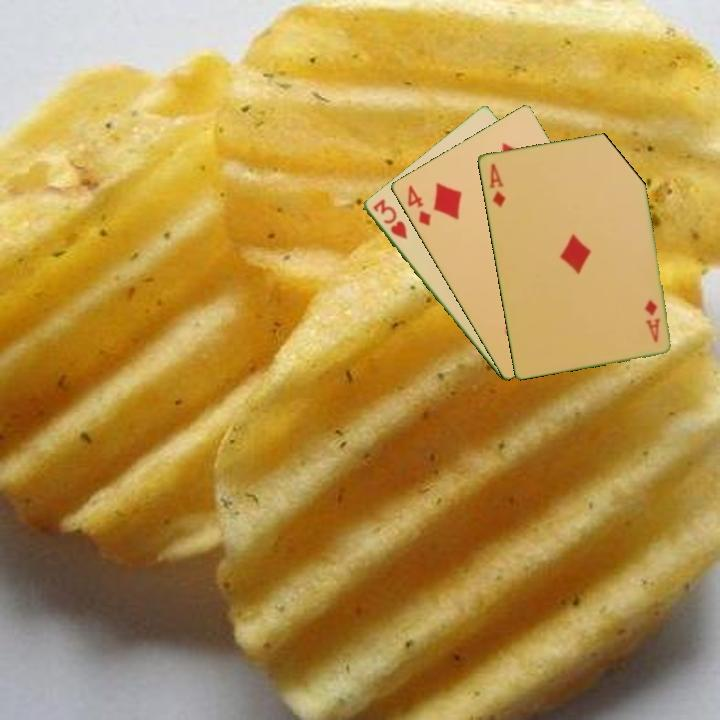3h: (369, 195, 410, 242)
4d: (403, 181, 434, 229)
Ad: (485, 160, 508, 210), (640, 296, 663, 345)
